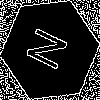N: (25, 25, 77, 77)
